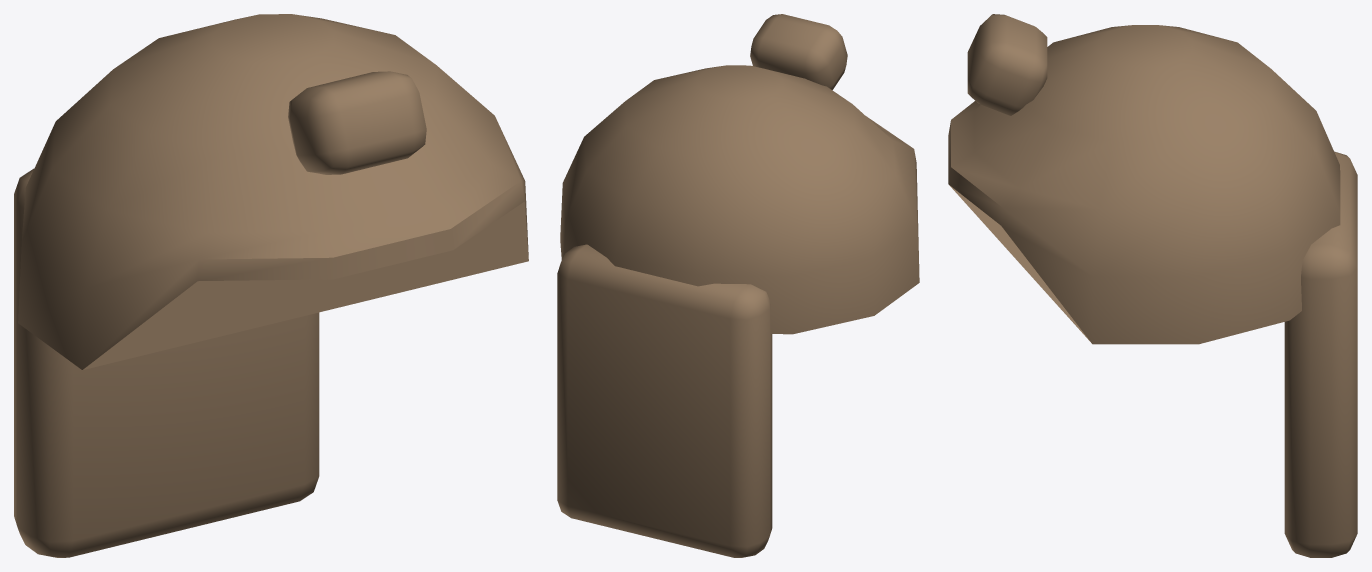
The model's file is CharHairMullet.fbx.
3 views of the same model, side by side, from view 1: azimuth 30°, elevation 25°; view 2: azimuth 150°, elevation 25°; view 3: azimuth 270°, elevation 25° (orthographic). The views are drawn at different scales.
Visible parts, largest first — view 1: CharHairMullet; view 2: CharHairMullet; view 3: CharHairMullet.
Boxes of the visible parts, x1,y1,x2,y2 form: CharHairMullet: [14, 14, 528, 557]; CharHairMullet: [557, 14, 919, 557]; CharHairMullet: [948, 14, 1357, 557].
Bounding box in the file's own units: 0.4057 × 0.5082 × 0.3916.
